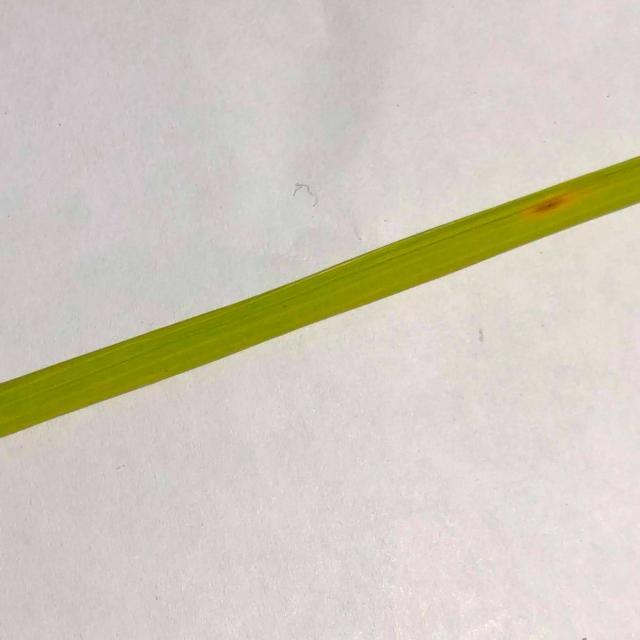brownspots: (527, 185, 574, 218)
